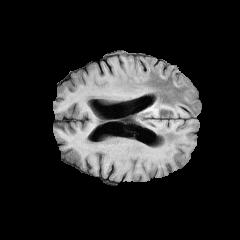glioma: (118, 68, 196, 145)
